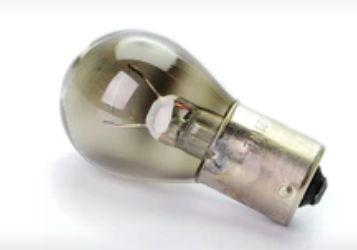light bulb: (53, 25, 333, 232)
